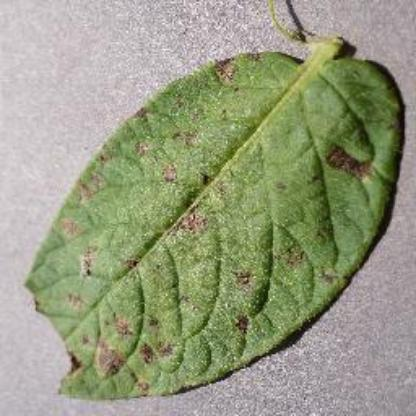Early-Blight: (23, 24, 408, 404)
